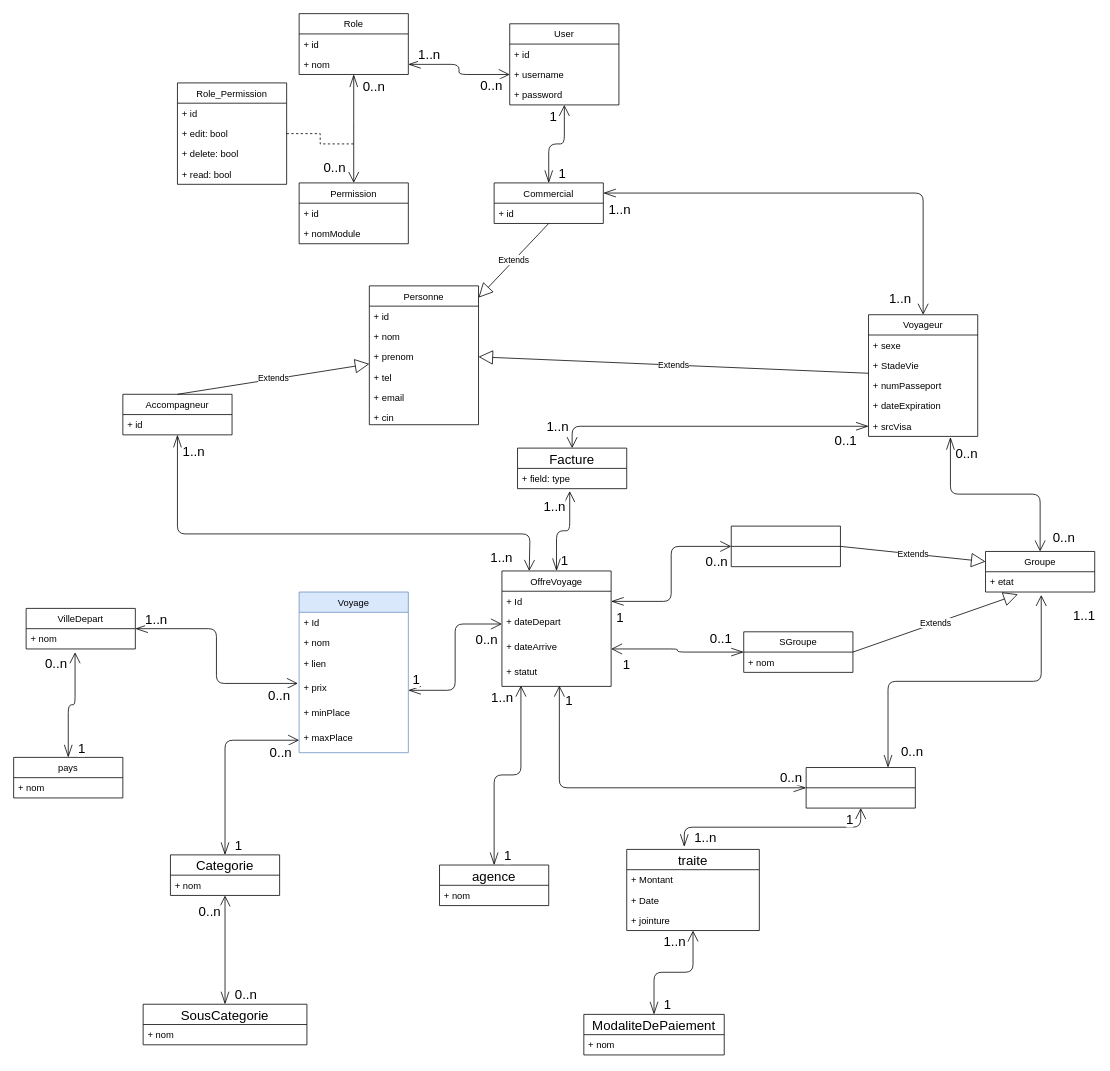
This 1110x1071 diagram has some shape labels left out. The centre of each missing label's shape, as x and y in pixels:
"Paiement" goes at (860,787).
"PGroupe" goes at (785,546).
